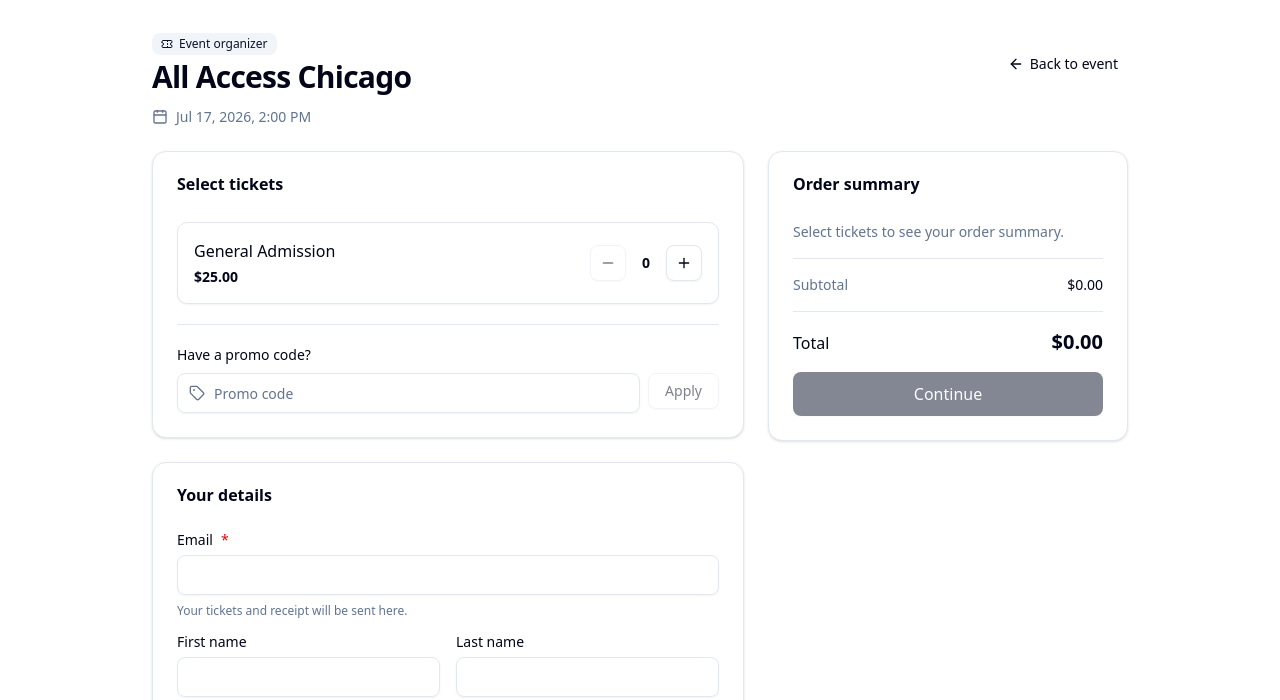
Test case: CheckoutFlow buyer validation › blocks checkout before the API when a buyer email question has an invalid value
Expected: the text "General Admission" is shown, top-left (194, 239), bottom-right (335, 263)
Click the button named "Increase General Admission quantity".
click(684, 263)  # box top-left (666, 245), bottom-right (702, 281)
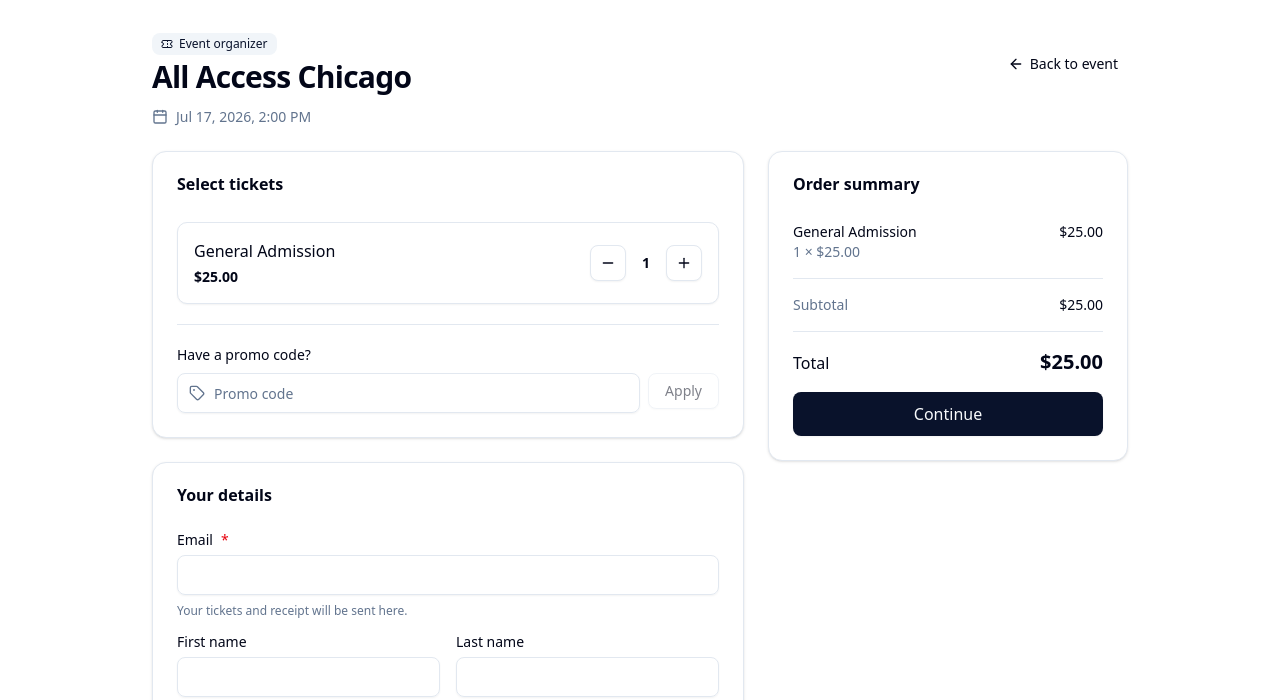
Type "buyer@example.com" into the field labelled "Email *".
click(448, 575); type("buyer@example.com")  # box top-left (177, 555), bottom-right (719, 595)
(page scrolled)
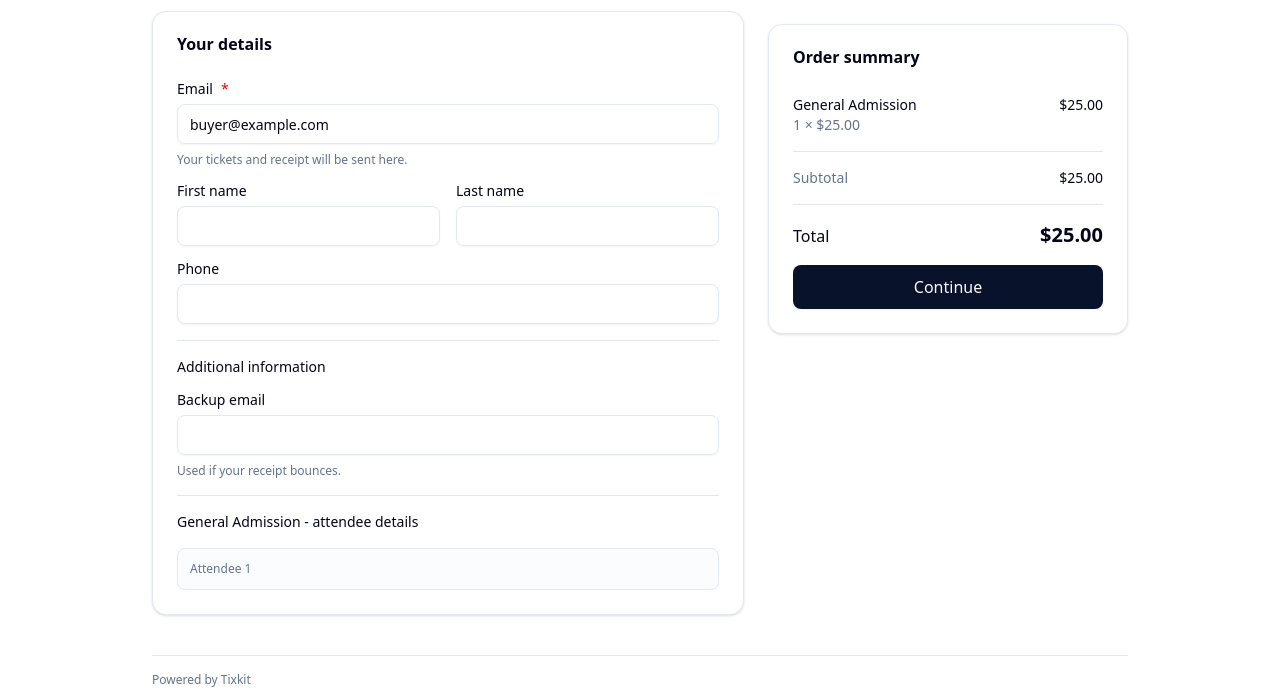
Type "not-an-email" into the field labelled "Backup email".
click(448, 435); type("not-an-email")  # box top-left (177, 415), bottom-right (719, 455)
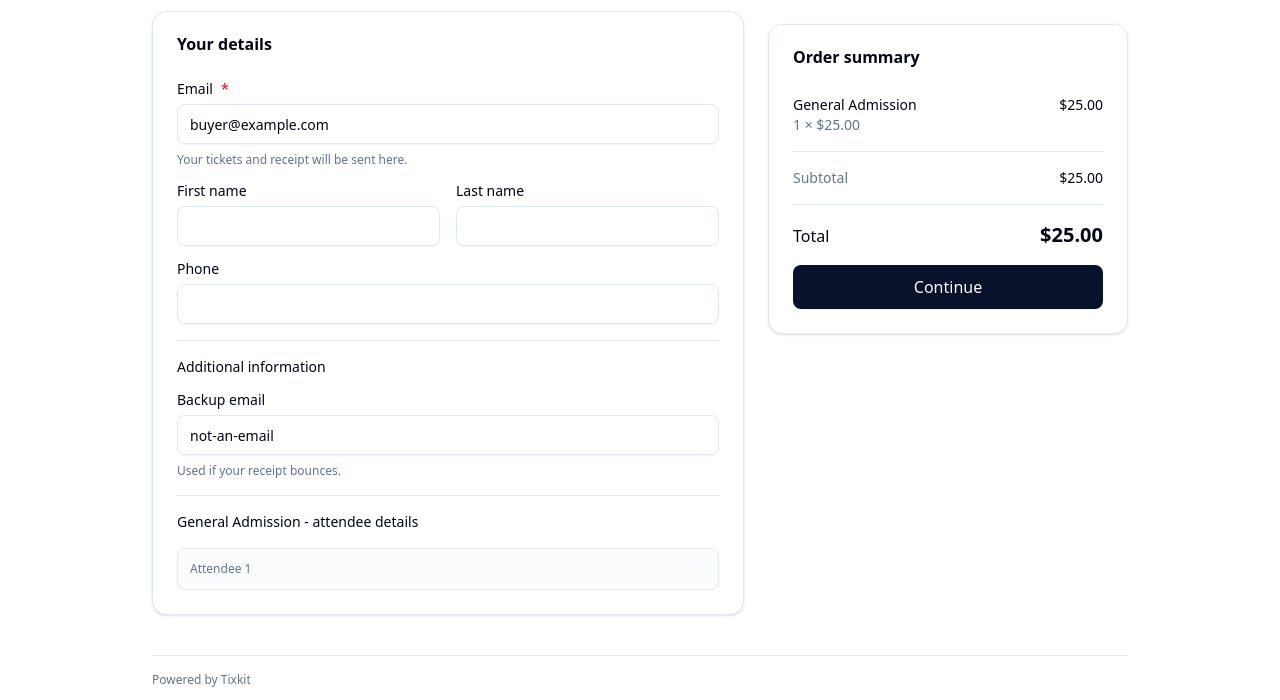
Click the button "Continue".
click(948, 287)  # box top-left (793, 265), bottom-right (1103, 309)
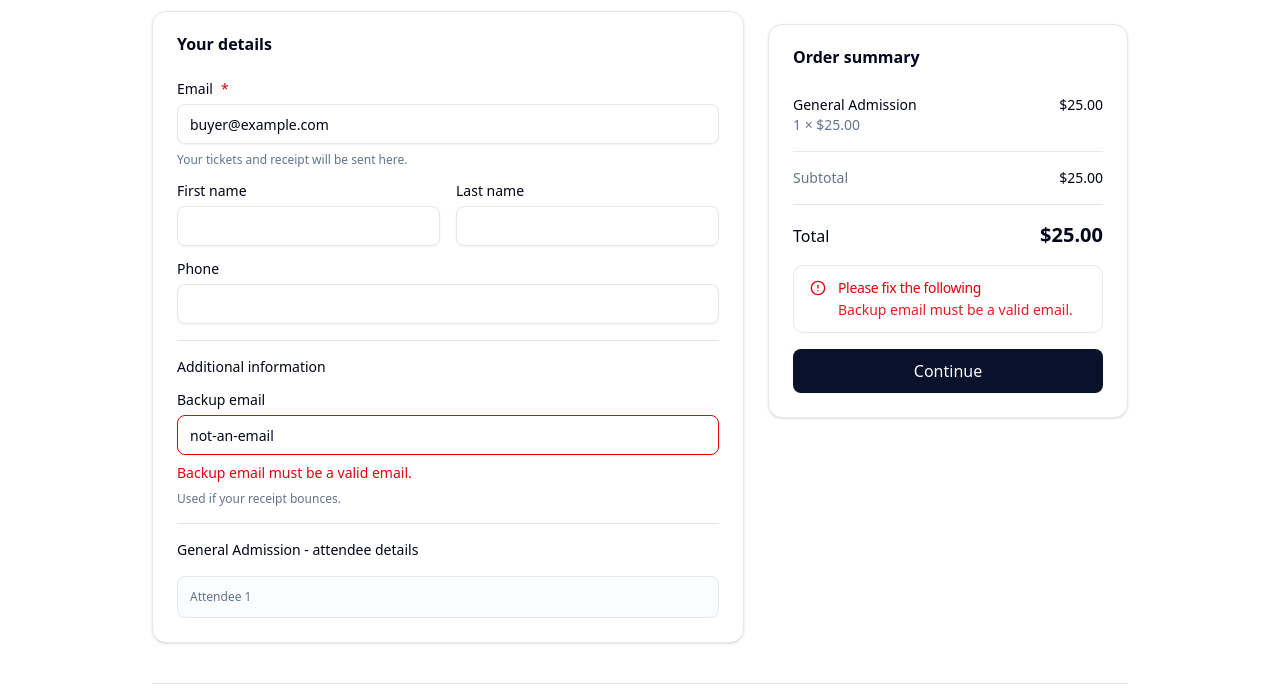
Now the text "Backup email must be a valid email." is shown 2 times, box top-left (177, 463), bottom-right (412, 482); top-left (838, 300), bottom-right (1086, 320)
